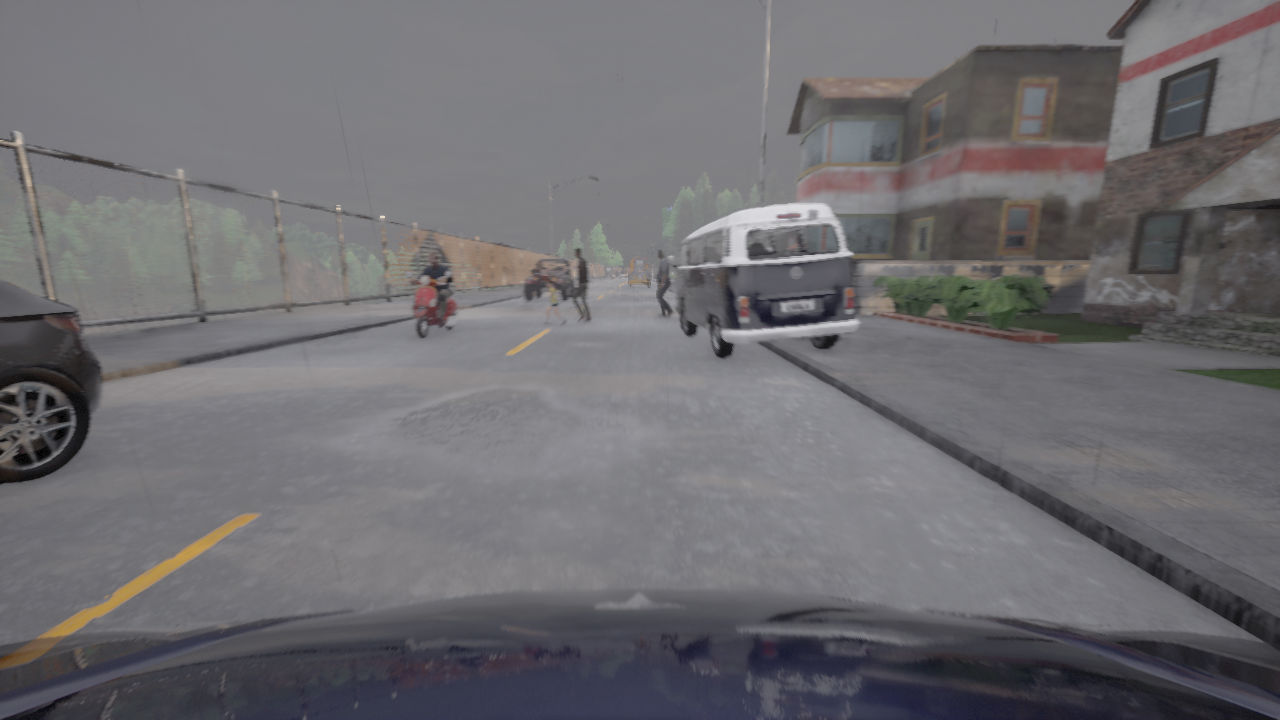cyclist: (0, 588, 1279, 719), (668, 204, 859, 358), (406, 272, 458, 339), (524, 259, 575, 300), (629, 253, 650, 274), (629, 269, 650, 287)
pedestrian: (572, 247, 591, 322), (655, 249, 672, 317), (542, 280, 567, 324)
